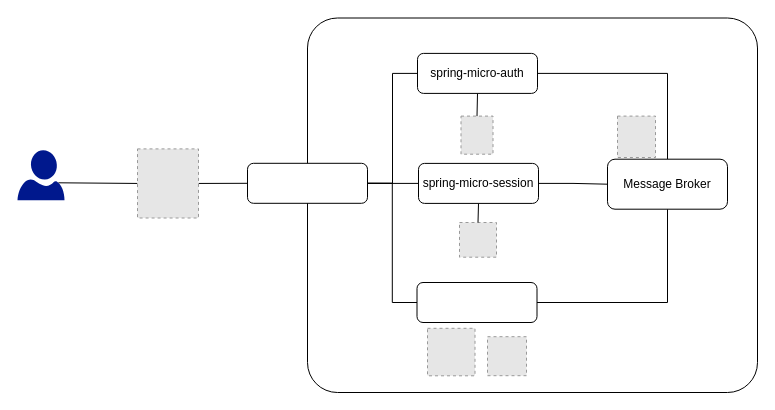
This 775x410 diagram has some shape labels left out. Grey dashed boxes stand in for pictures. The shapes that lost their labels are listed below. From the top down, each one's box as (x1, y1, x2, y2) in pixels, then its label:
(246, 162, 368, 203): spring-micro-gateway
(416, 282, 537, 322): spring-micro-push
